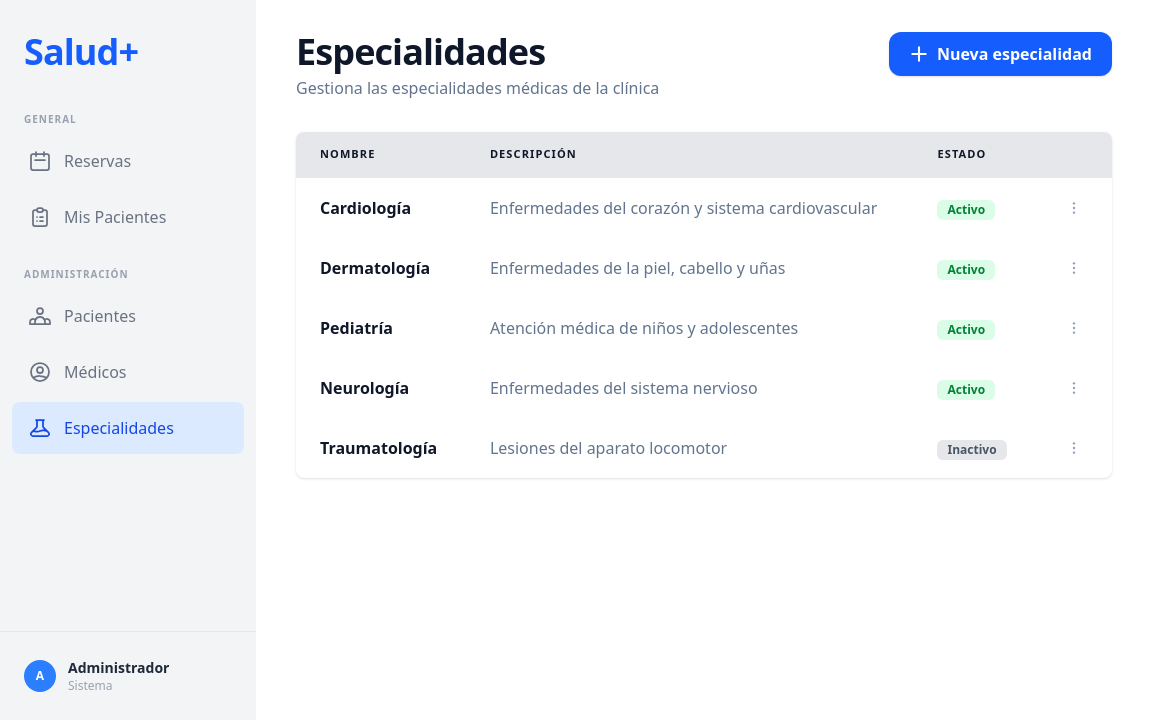
Scenario: Admin · Gestión de especialidades (RF08) › crea una nueva especialidad
The image size is (1152, 720).
Click the button "Nueva especialidad" at (1001, 54), box [889,32,1112,76]
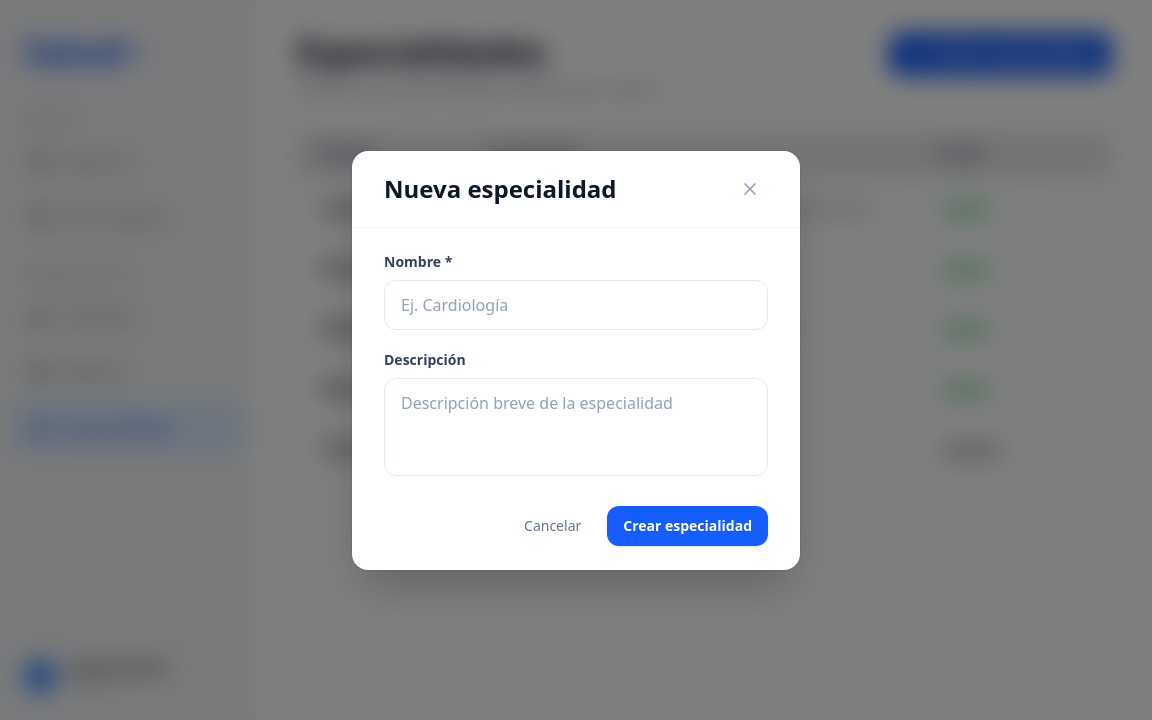
Type "Oncología" into the field with placeholder "Ej. Cardiología" at (576, 305), box [384,280,768,330]
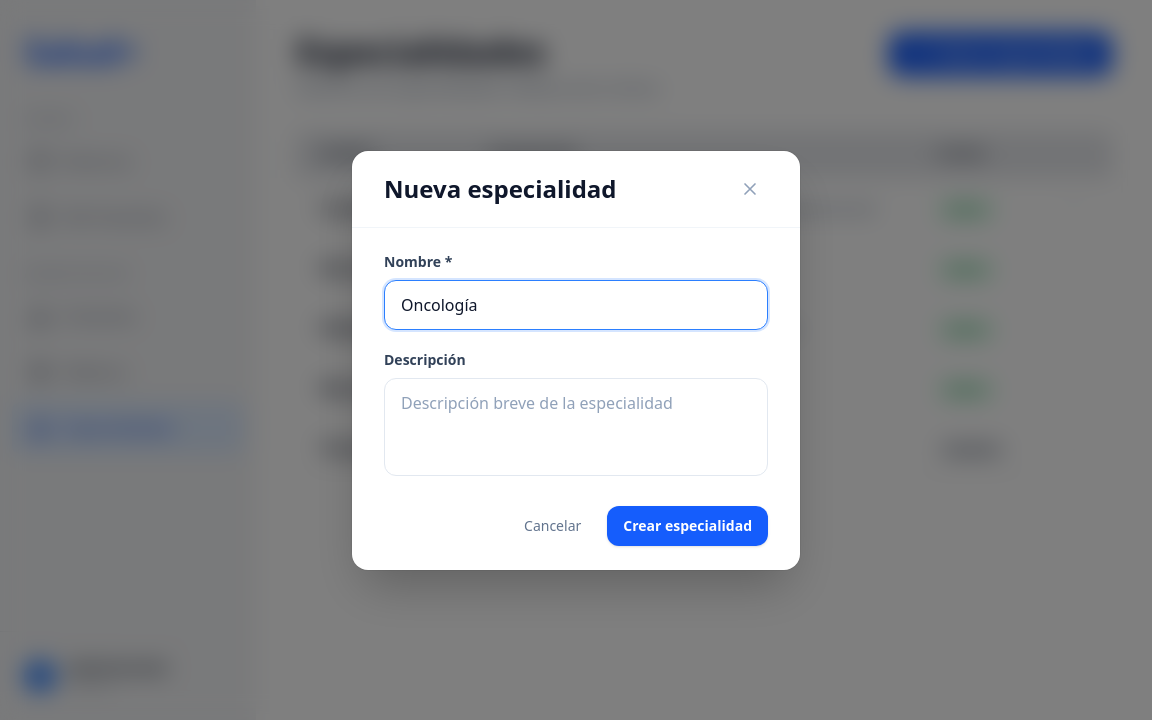
Type "Diagnóstico y tratamiento del cáncer" into the text box with placeholder "Descripción breve de la especialidad" at (576, 427), box [384,378,768,476]
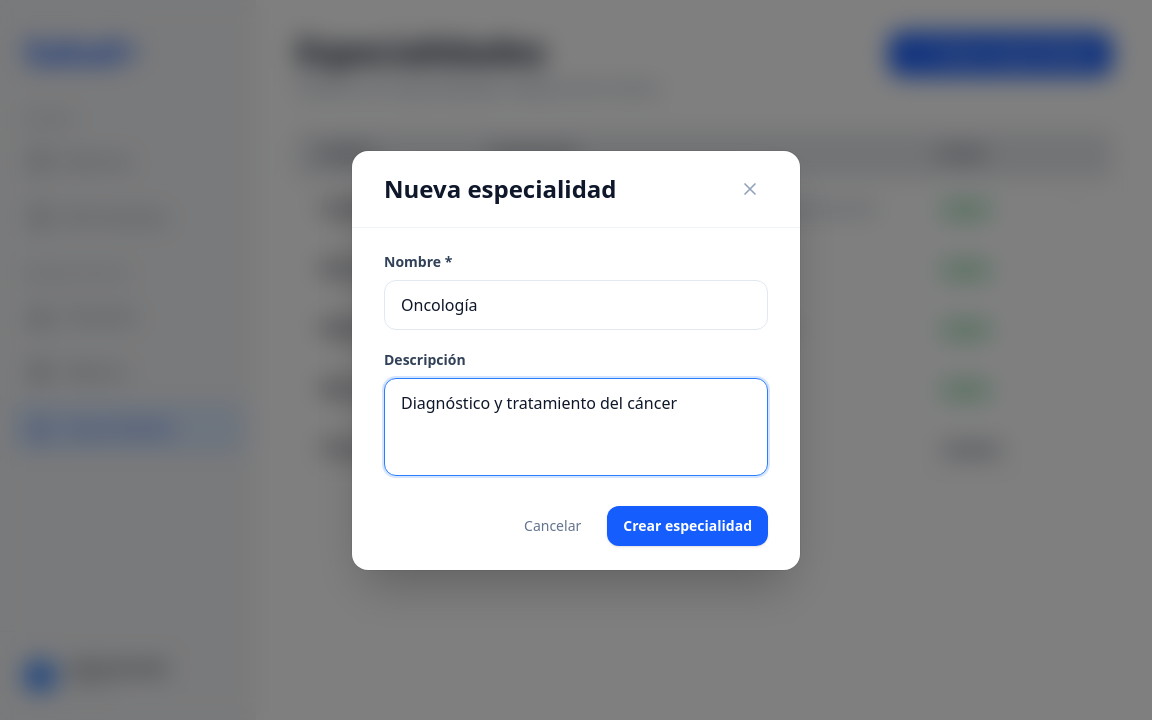
Click the button "Crear especialidad" at (688, 526), box [607,506,768,546]
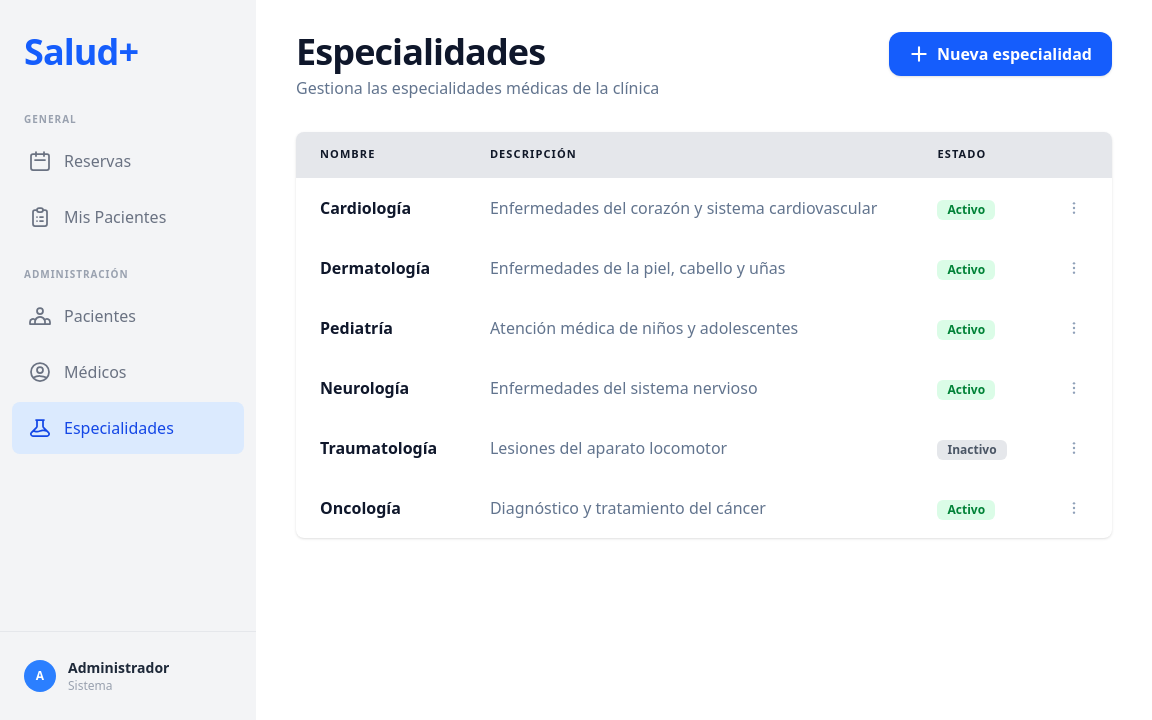
Now the text "Diagnóstico y tratamiento del cáncer" is shown, box [466,478,914,538]
Now the text "activo" in the row of "Oncología" is shown, box [947,501,985,518]
